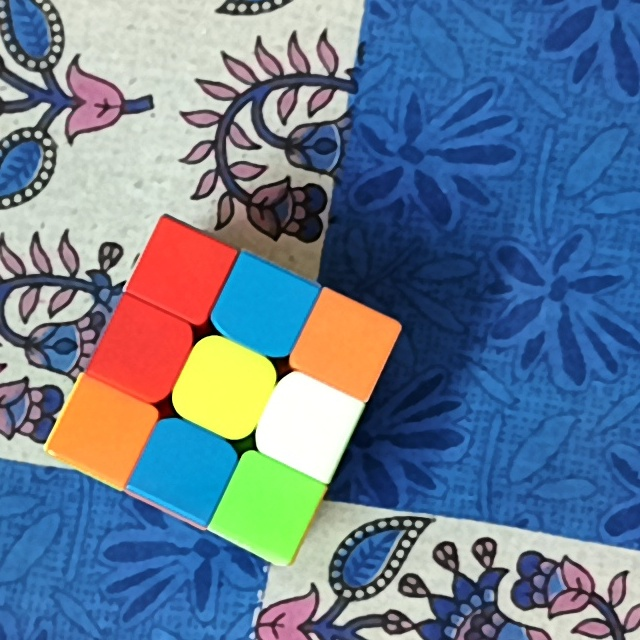tile: (271, 394, 344, 453), (315, 312, 379, 375), (153, 238, 217, 299), (241, 474, 302, 538), (73, 396, 133, 461), (155, 438, 220, 498), (114, 323, 178, 379), (194, 357, 257, 413), (237, 278, 294, 339)
